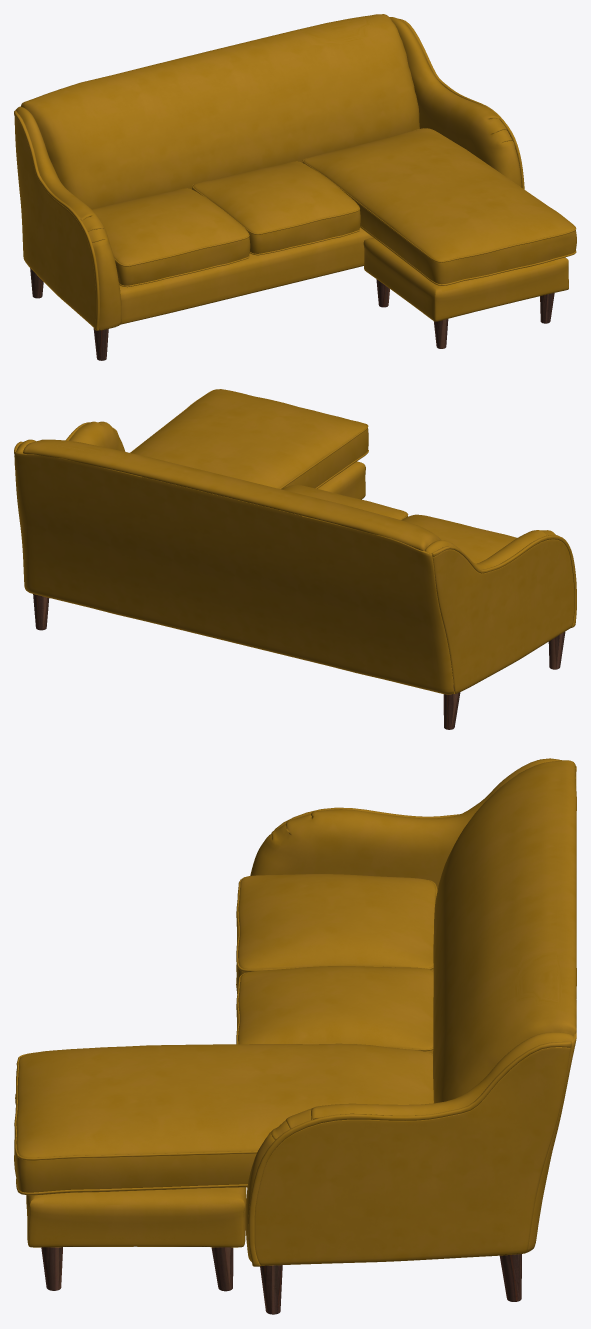
File: helena_large_corner_sofa_plush_turmeric_velvet.glb
The picture shows the model from 3 angles, top to bottom: view 1: azimuth 30°, elevation 25°; view 2: azimuth 150°, elevation 25°; view 3: azimuth 270°, elevation 25°; orthographic projection. The views are drawn at different scales.
Visible parts, largest first — view 1: Helena_Large_Corner_Sofa_FABRIC_0, Helena_Large_Corner_Sofa_WALNUT_0; view 2: Helena_Large_Corner_Sofa_FABRIC_0, Helena_Large_Corner_Sofa_WALNUT_0; view 3: Helena_Large_Corner_Sofa_FABRIC_0, Helena_Large_Corner_Sofa_WALNUT_0.
Boxes of the visible parts, <box> form: Helena_Large_Corner_Sofa_FABRIC_0: <box>14,14,576,330</box>; Helena_Large_Corner_Sofa_WALNUT_0: <box>30,268,554,360</box>; Helena_Large_Corner_Sofa_FABRIC_0: <box>14,389,576,694</box>; Helena_Large_Corner_Sofa_WALNUT_0: <box>33,594,565,729</box>; Helena_Large_Corner_Sofa_FABRIC_0: <box>14,758,576,1266</box>; Helena_Large_Corner_Sofa_WALNUT_0: <box>41,1247,521,1314</box>.
Size of the model in its own units: 1.38 by 0.5744 by 1.04.
Materials: 2 (2 with a texture image).
